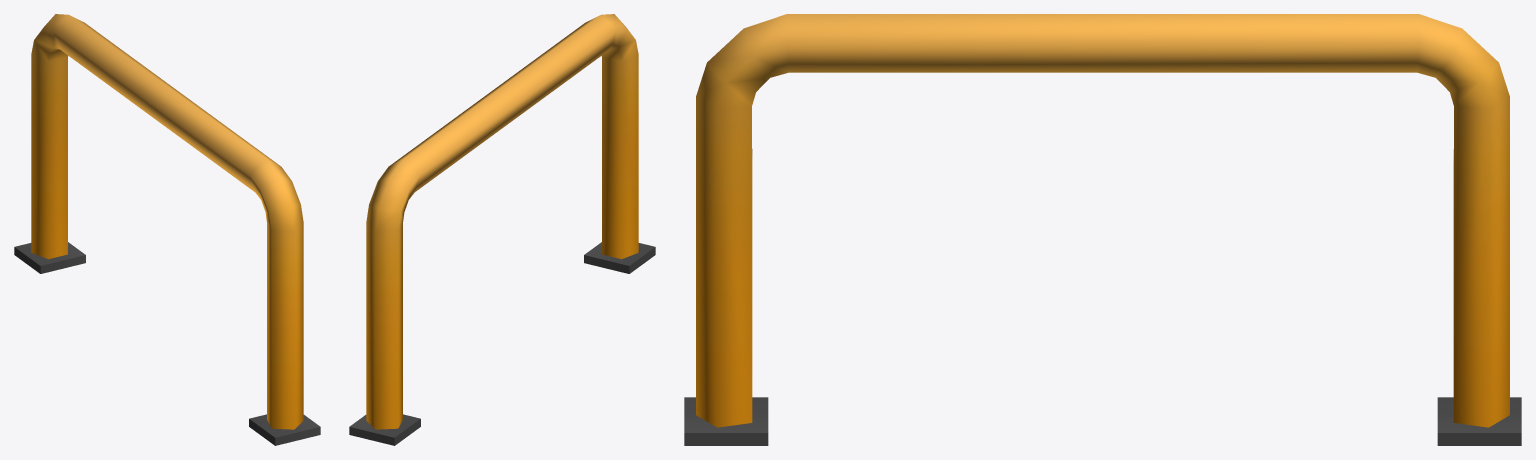
File: Bollards_1_B.fbx
The picture shows the model from 3 angles, left to right: view 1: azimuth 30°, elevation 25°; view 2: azimuth 150°, elevation 25°; view 3: azimuth 270°, elevation 25°; orthographic projection. The views are drawn at different scales.
Visible parts, largest first — view 1: Bollards_1_B; view 2: Bollards_1_B; view 3: Bollards_1_B.
Part boxes in pixels (left/top/right/bottom): Bollards_1_B: left=14, top=14, right=320, bottom=445; Bollards_1_B: left=349, top=14, right=655, bottom=445; Bollards_1_B: left=684, top=14, right=1521, bottom=445.
Bounding box in the file's own units: 15.3 × 83.2 × 152.
